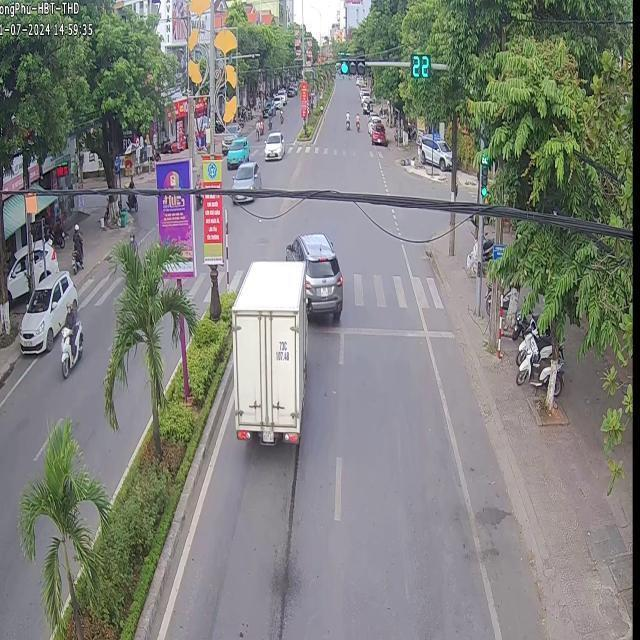car: (226, 258, 307, 456), (284, 231, 342, 320), (231, 165, 257, 202), (226, 138, 247, 169), (263, 132, 282, 157)
green_light: (338, 56, 364, 74), (478, 151, 487, 198)
motobike: (343, 110, 350, 132), (352, 112, 358, 134)
stop_line: (310, 323, 454, 337)
